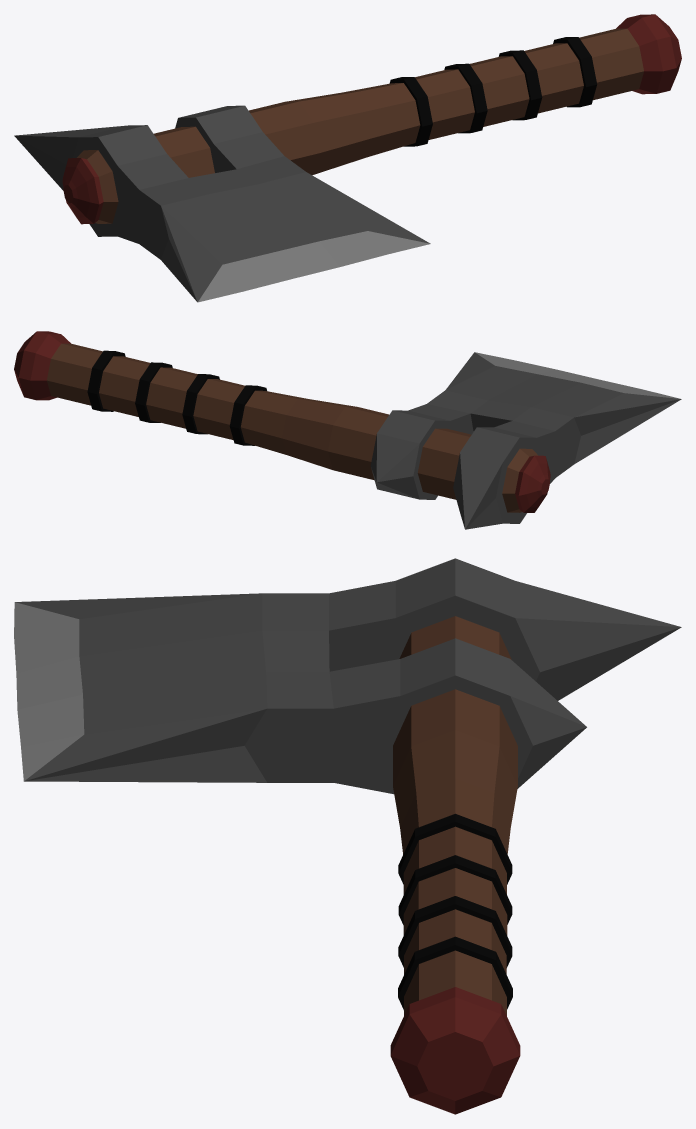
File: axe.fbx
3 views of the same model, one above another, from view 1: azimuth 30°, elevation 25°; view 2: azimuth 150°, elevation 25°; view 3: azimuth 270°, elevation 25° (orthographic). The views are drawn at different scales.
Parts seen in each view (by area): view 1: Cube; view 2: Cube; view 3: Cube.
Boxes of the visible parts, x1,y1,x2,y2 form: Cube: (14, 14, 681, 302); Cube: (14, 331, 681, 529); Cube: (14, 558, 681, 1114).
Bounding box in the file's own units: 207 × 32.15 × 127.
